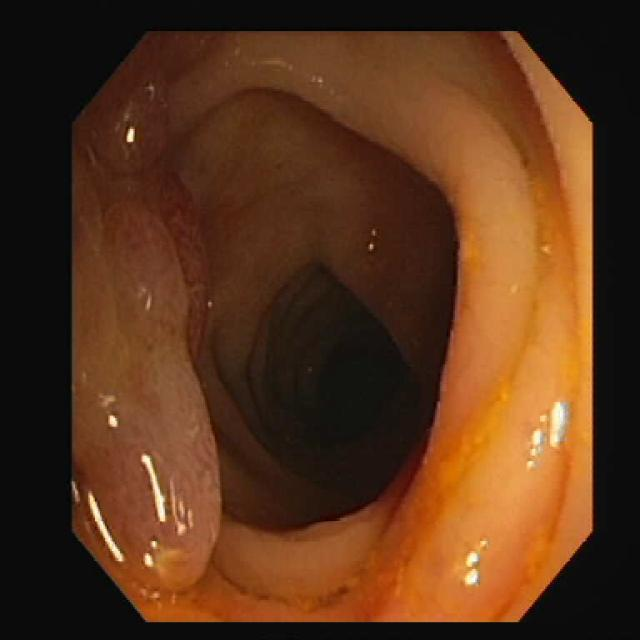tumor: (72, 124, 220, 587)
